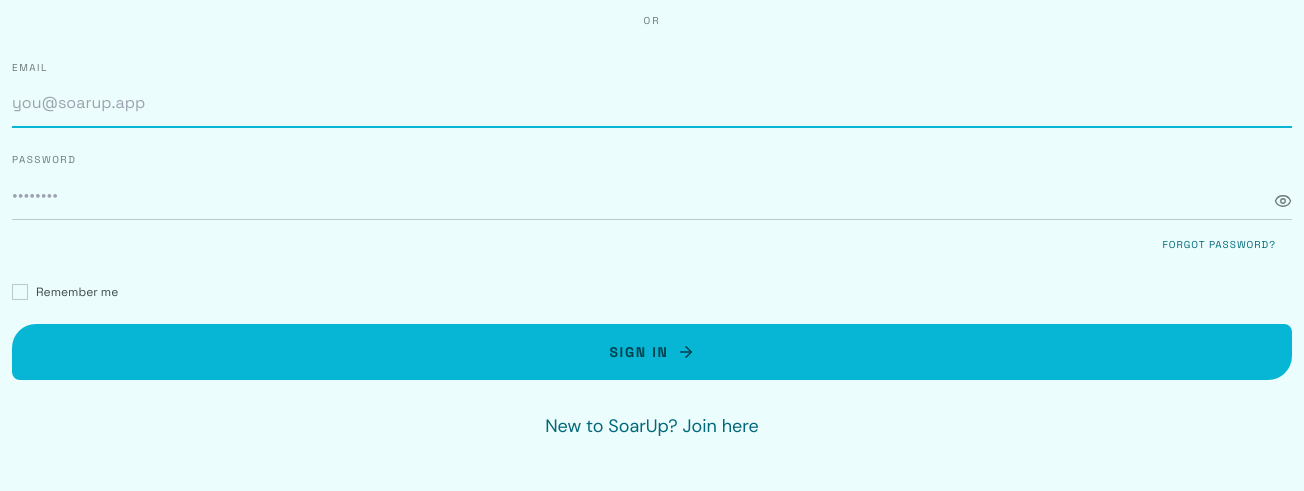
LoginForm — validation › shows email required error on empty submit
The width and height of the screenshot is (1304, 491).
Click the button "Sign in" at (652, 352), box [12,324,1292,380]
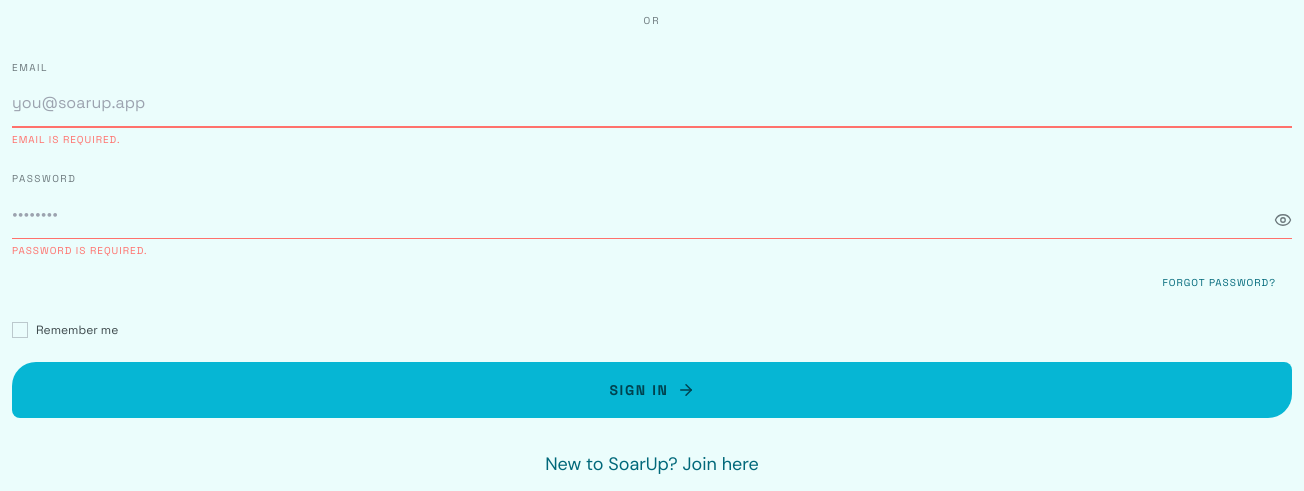
Now the text "Email is required." is shown, box [12,133,120,146]
